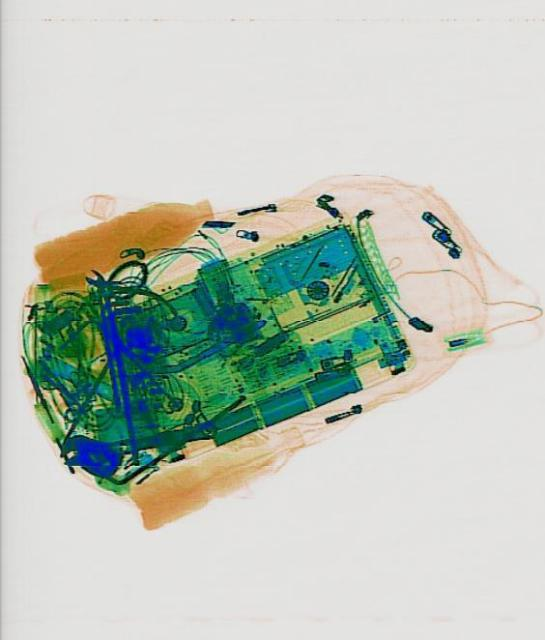Pliers: (66, 244, 183, 366)
Wrench: (55, 408, 219, 470)
